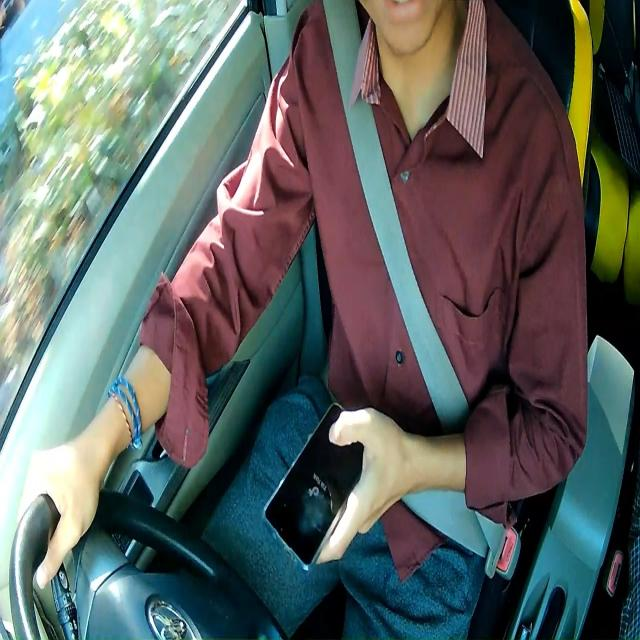phone: (260, 401, 367, 574)
